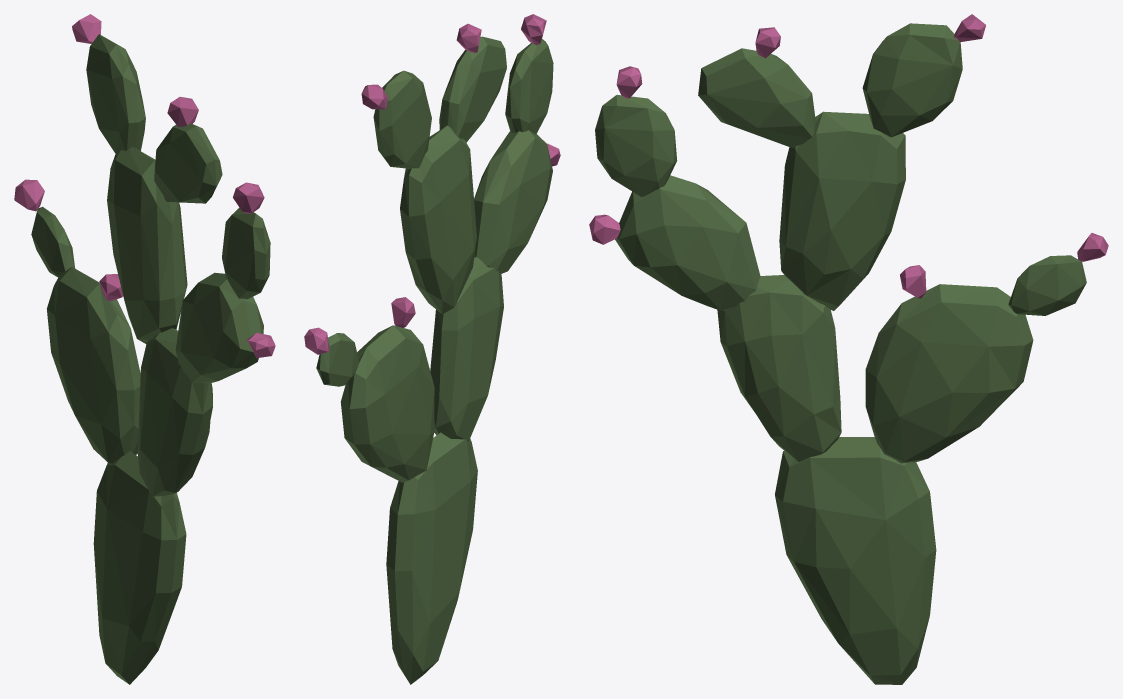
File: CactusFlowers_4.lod1.glb
3 renders of one model, left to right at view 1: azimuth 30°, elevation 25°; view 2: azimuth 150°, elevation 25°; view 3: azimuth 270°, elevation 25°, orthographic. The views are drawn at different scales.
Parts seen in each view (by area): view 1: CactusFlowers_4; view 2: CactusFlowers_4; view 3: CactusFlowers_4.
Boxes of the visible parts, x1,y1,x2,y2 form: CactusFlowers_4: [14, 14, 275, 684]; CactusFlowers_4: [304, 14, 560, 684]; CactusFlowers_4: [589, 14, 1108, 684].
Size of the model in its own units: 0.1097 by 1.38 by 0.9722.
